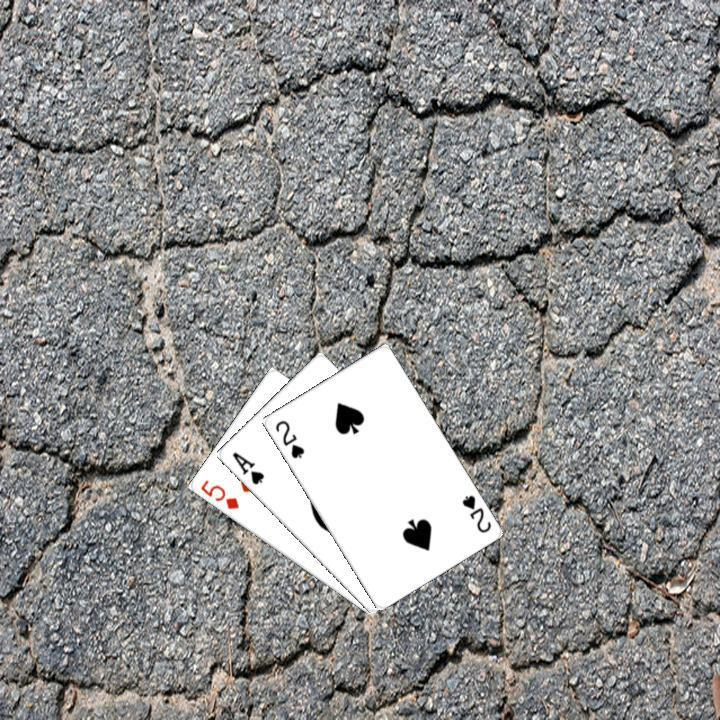2: (457, 490, 493, 535), (270, 416, 306, 460)
5: (196, 475, 241, 511)
A: (227, 448, 266, 487)
